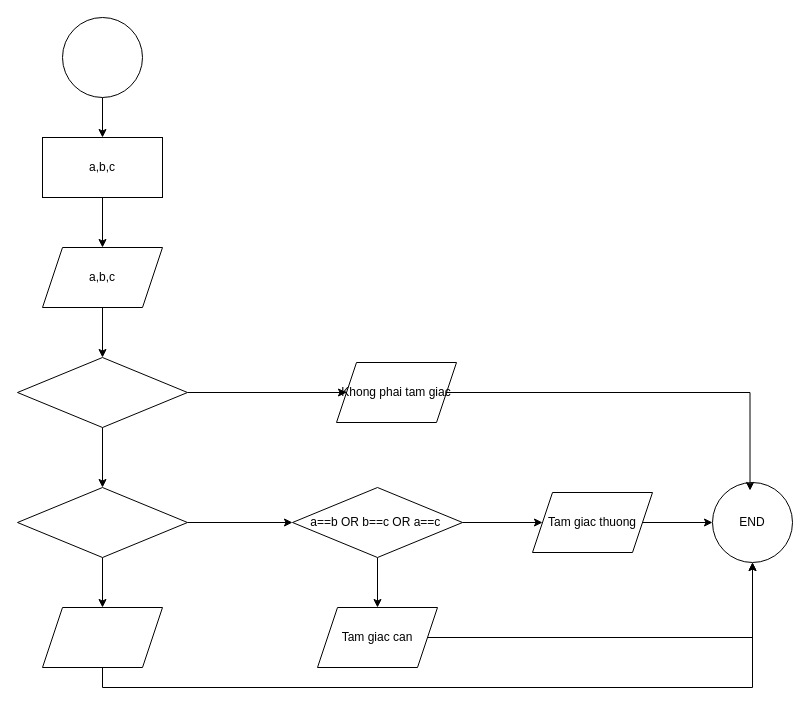
The diagram is 810 pixels wide and 713 high, and some of its shapes have lost their labels. Here are the shapes that lost their labels. From the top down, the centre of each, then its label:
At pixel 102 57: "START".
At pixel 102 392: "(a+b > c) && (a+c>b) && (b+c>a)".
At pixel 102 522: "a==b && b==c".
At pixel 102 637: "Tam giac deu".
